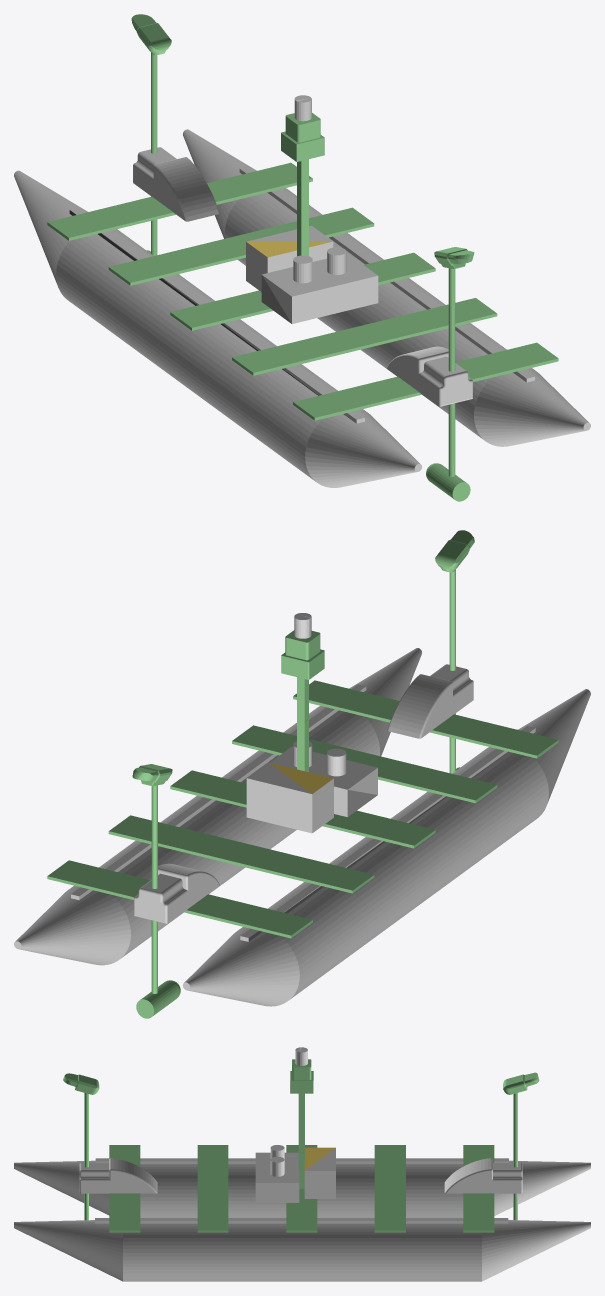
The model's file is aboat.glb.
3 views of the same model, one above another, from view 1: azimuth 30°, elevation 25°; view 2: azimuth 150°, elevation 25°; view 3: azimuth 270°, elevation 25° (orthographic). The views are drawn at different scales.
Parts seen in each view (by area): view 1: Node1; view 2: Node1; view 3: Node1.
Part boxes in pixels (bbox=[...]): Node1: bbox=[14, 14, 590, 501]; Node1: bbox=[14, 530, 590, 1018]; Node1: bbox=[14, 1047, 590, 1281].
Bounding box in the file's own units: 1300 × 1457 × 3700.
